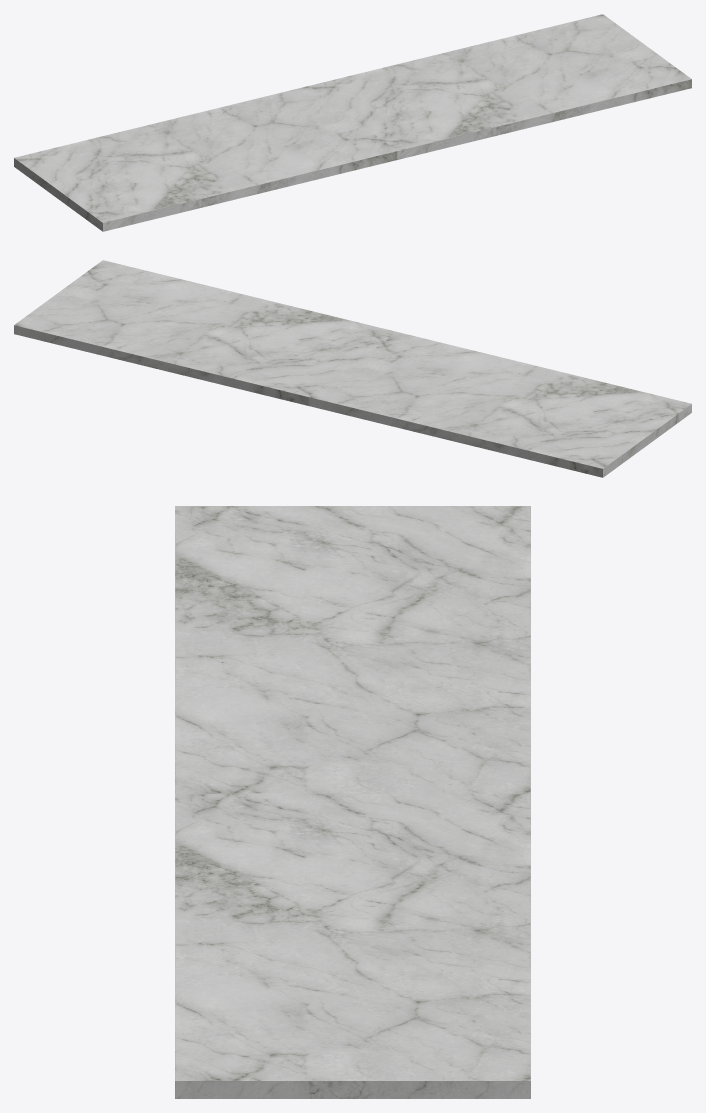
File: z__corridor_floor_03.fbx
3 views of the same model, one above another, from view 1: azimuth 30°, elevation 25°; view 2: azimuth 150°, elevation 25°; view 3: azimuth 270°, elevation 25° (orthographic). The views are drawn at different scales.
Parts seen in each view (by area): view 1: CorridorFloor14, CorridorFloor1; view 2: CorridorFloor14, CorridorFloor1; view 3: CorridorFloor1, CorridorFloor14.
Part boxes in pixels (box(x1,y1,x2,y2)): CorridorFloor14: box(14, 86, 397, 231); CorridorFloor1: box(309, 14, 691, 159); CorridorFloor14: box(308, 332, 691, 477); CorridorFloor1: box(14, 260, 396, 405); CorridorFloor1: box(175, 793, 530, 1098); CorridorFloor14: box(175, 506, 530, 793).
Size of the model in its own units: 2551 by 36.93 by 667.
Materials: 1 (1 with a texture image).
